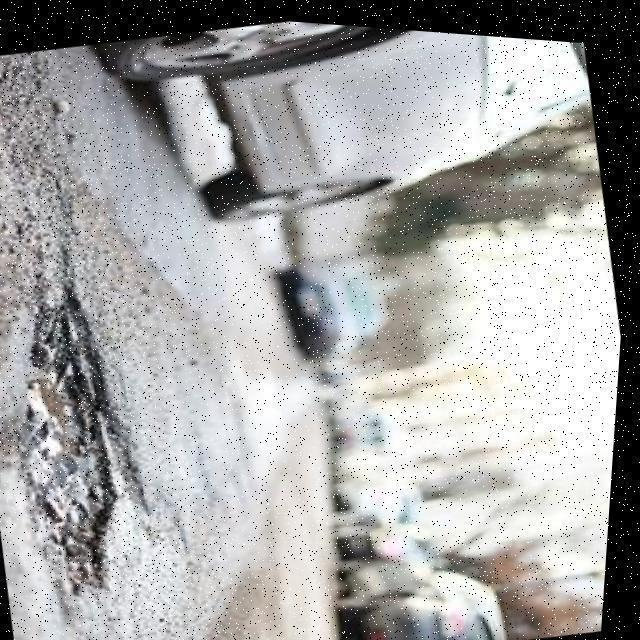Pothole: (18, 303, 117, 592)
